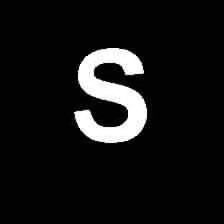LTR_S: (68, 38, 153, 150)
